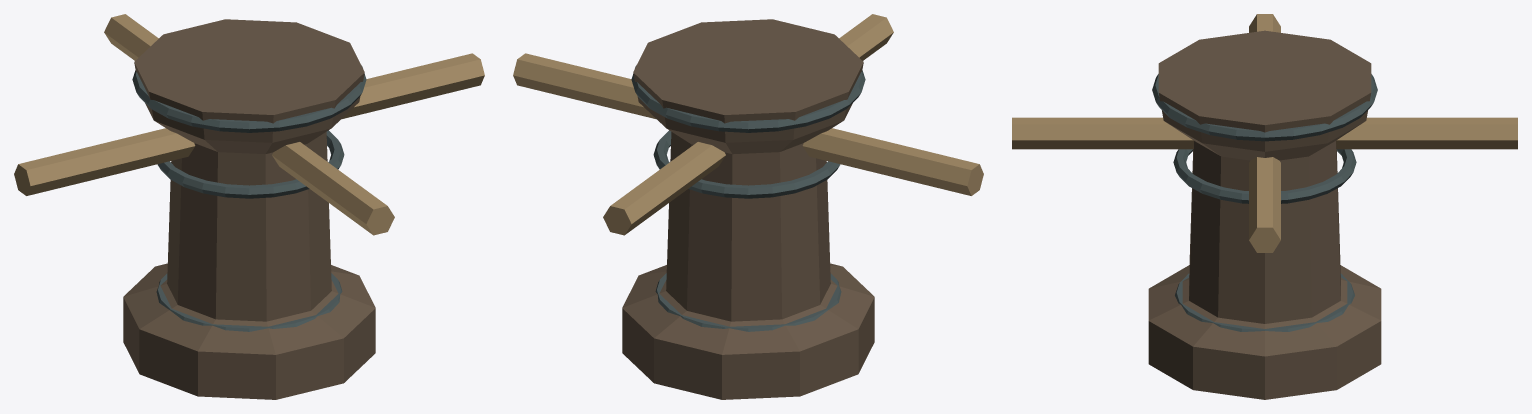
File: SW_Capstan.fbx
3 renders of one model, left to right at view 1: azimuth 30°, elevation 25°; view 2: azimuth 150°, elevation 25°; view 3: azimuth 270°, elevation 25°, orthographic. The views are drawn at different scales.
Visible parts, largest first — view 1: SW_Capstan; view 2: SW_Capstan; view 3: SW_Capstan.
Part boxes in pixels (<box>): SW_Capstan: <box>14,14,484,399</box>; SW_Capstan: <box>513,14,983,399</box>; SW_Capstan: <box>1012,14,1517,399</box>.
Bounding box in the file's own units: 1.9 × 1.12 × 1.9.
